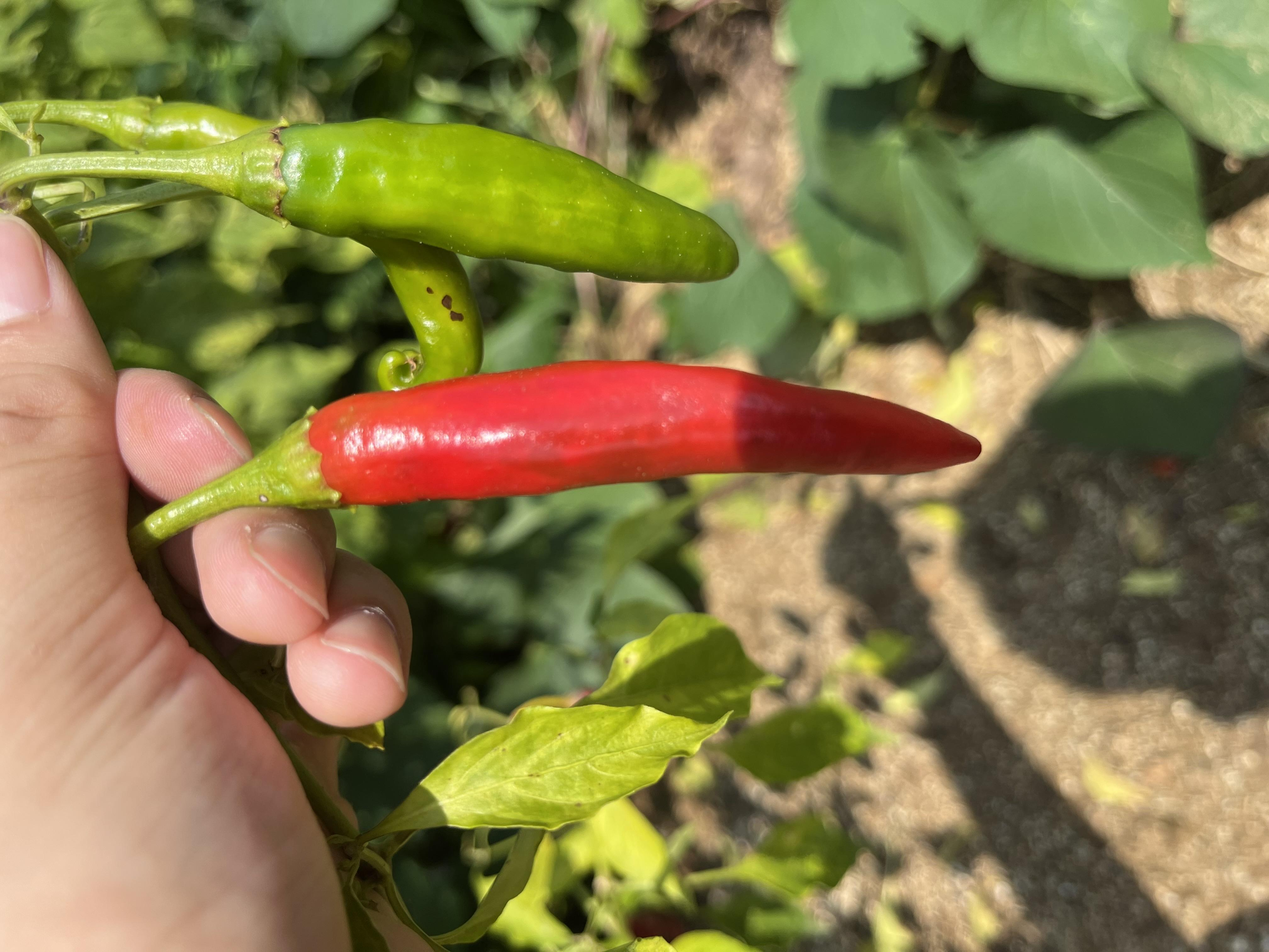Buah Cabai Sehat: (531, 192, 852, 745), (877, 150, 1182, 569)
